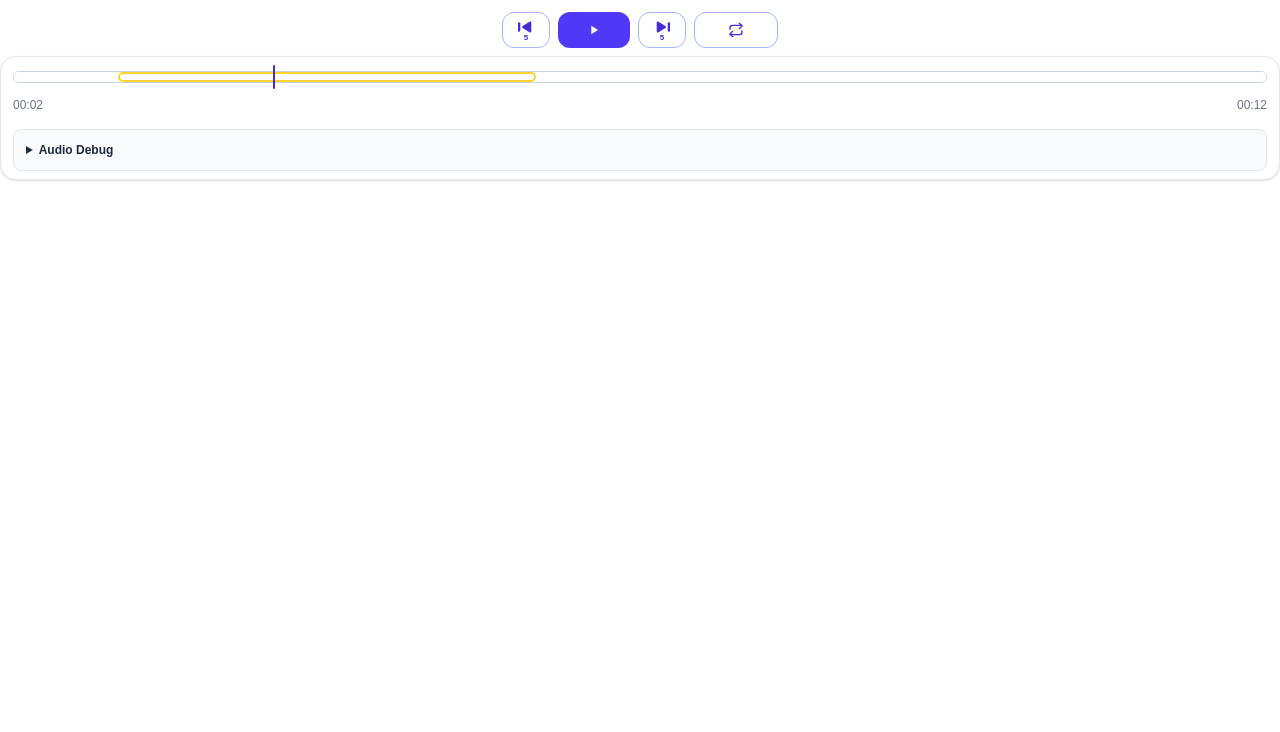
AudioPlayer › runs reachability check when debug panel opens
Click the heading "Audio Debug": point(76, 150) left=39, top=143, right=113, bottom=157
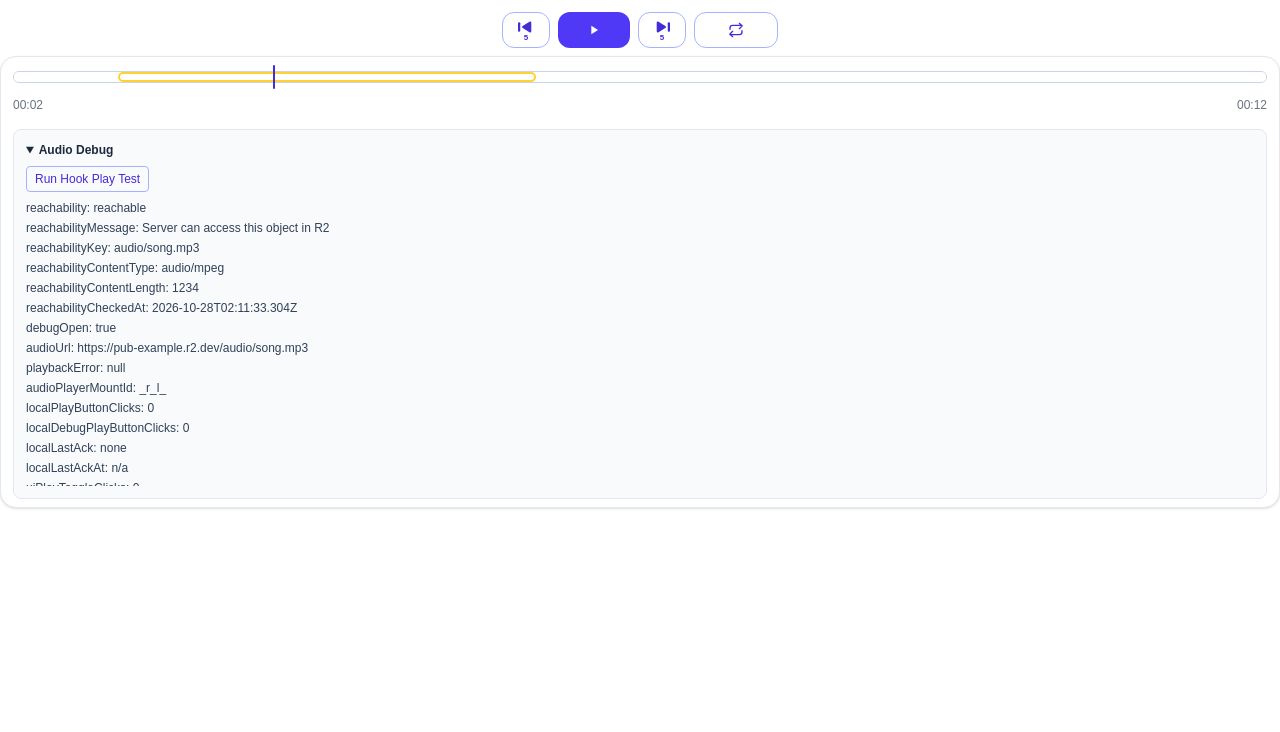
expect the text "reachability: reachable" is shown: met, box left=26, top=201, right=146, bottom=215
